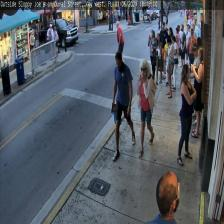person: (111, 50, 135, 161), (177, 64, 197, 165), (144, 170, 181, 224), (136, 59, 154, 157)
